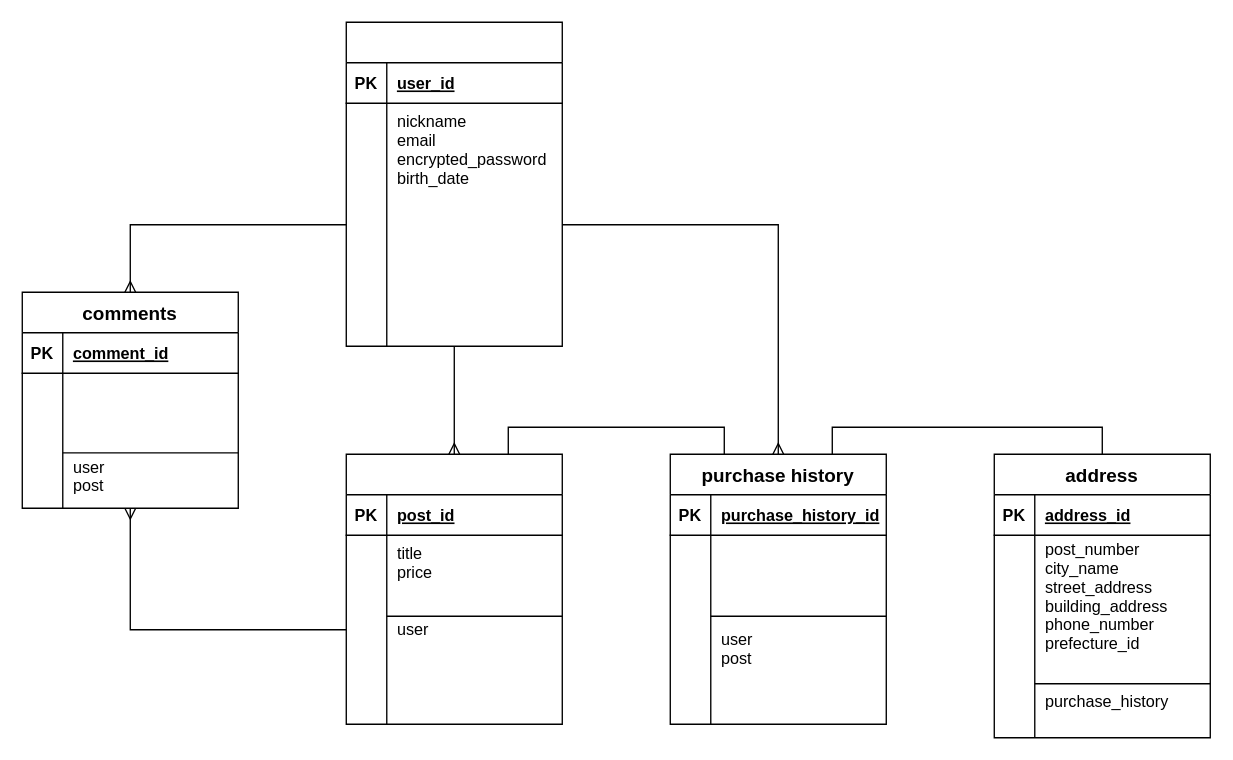
The diagram is 1233 pixels wide and 760 high, and some of its shapes have lost their labels. The shapes that lost their labels are listed below. From the top down, each one's box as (x1, y1, x2, y2) in pixels, then its label:
(345, 21, 562, 346): users
(345, 453, 562, 724): posts
